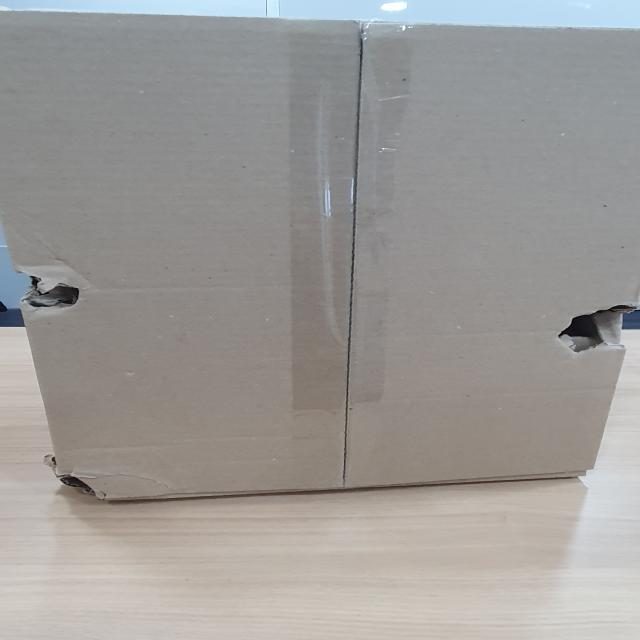hole: (16, 260, 103, 328), (547, 296, 639, 348), (50, 457, 110, 505)
